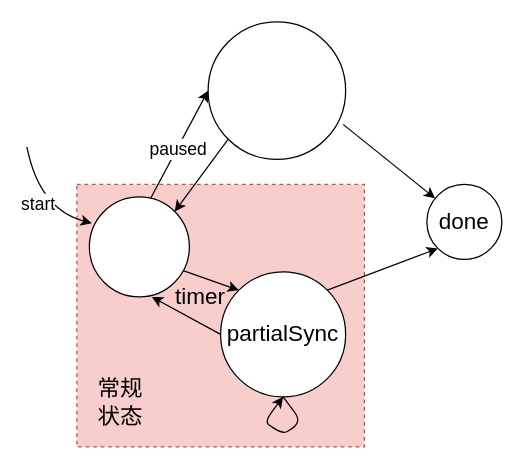
The diagram is 524 pixels wide and 469 high, and some of its shapes have lost their labels. The centre of each missing label's shape, as x and y in pixels:
"fullSync" goes at point (138, 246).
"retryFullSync" goes at point (276, 90).
